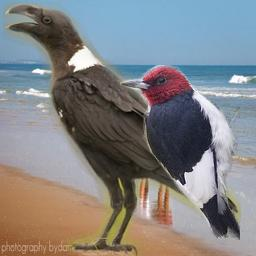Crow: (3, 2, 241, 256)
Woodpecker: (120, 65, 240, 240)
